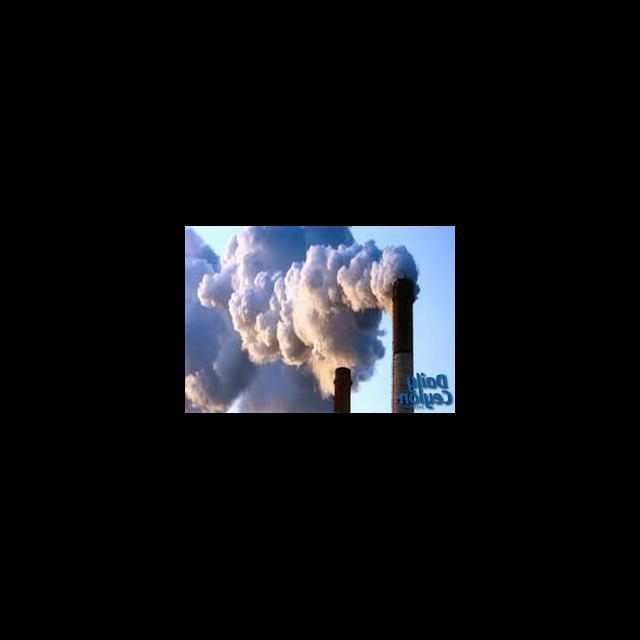Smoke: (185, 228, 420, 411)
